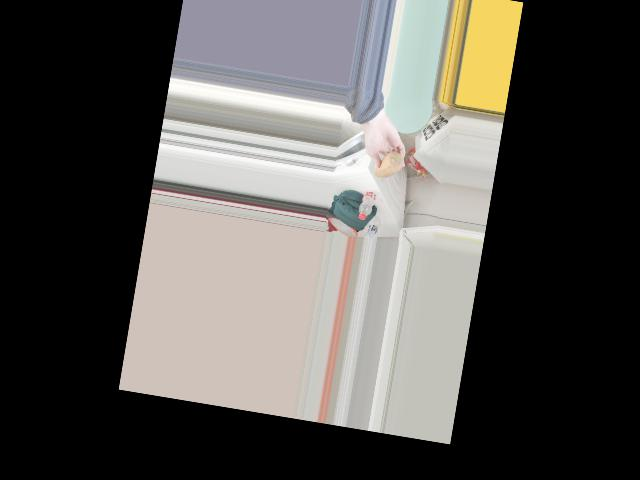sweet_potato: (370, 144, 402, 180)
